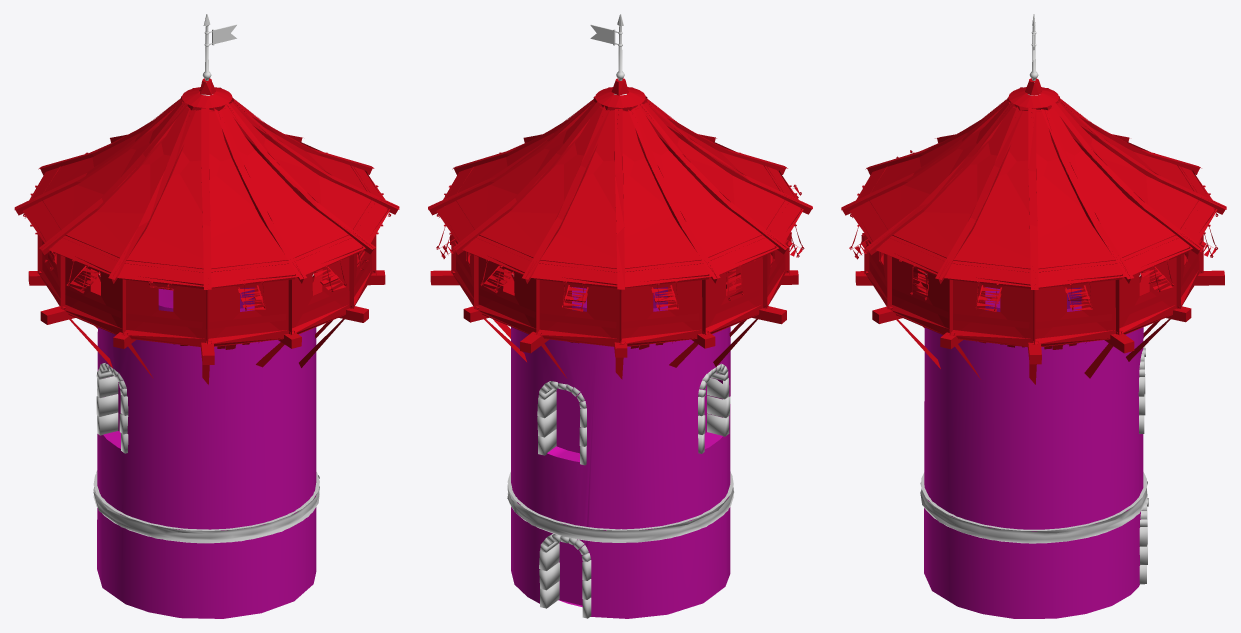
Rendered from Tower_6 (2).fbx.
The picture shows the model from 3 angles, left to right: view 1: azimuth 30°, elevation 25°; view 2: azimuth 150°, elevation 25°; view 3: azimuth 270°, elevation 25°; orthographic projection.
Parts seen in each view (by area): view 1: Group_4.010, Tower_1.004, Group_4.011; view 2: Group_4.010, Tower_1.004, Group_4.011; view 3: Group_4.010, Tower_1.004.
Part boxes in pixels (box(x1,y1,x2,y2)): Group_4.010: box(14, 78, 399, 384); Tower_1.004: box(93, 287, 319, 618); Group_4.011: box(201, 14, 236, 95); Group_4.010: box(428, 78, 812, 379); Tower_1.004: box(507, 287, 734, 618); Group_4.011: box(590, 14, 626, 95); Group_4.010: box(841, 78, 1226, 384); Tower_1.004: box(920, 287, 1148, 618).
Bounding box in the file's own units: 1135 × 1814 × 1133.
